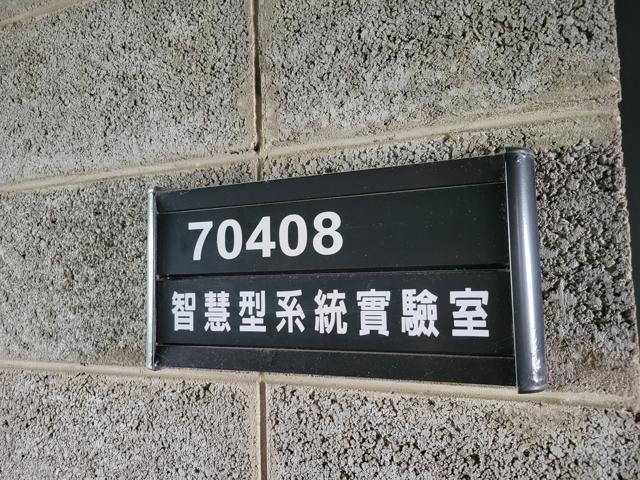doorplate: (133, 142, 556, 398)
